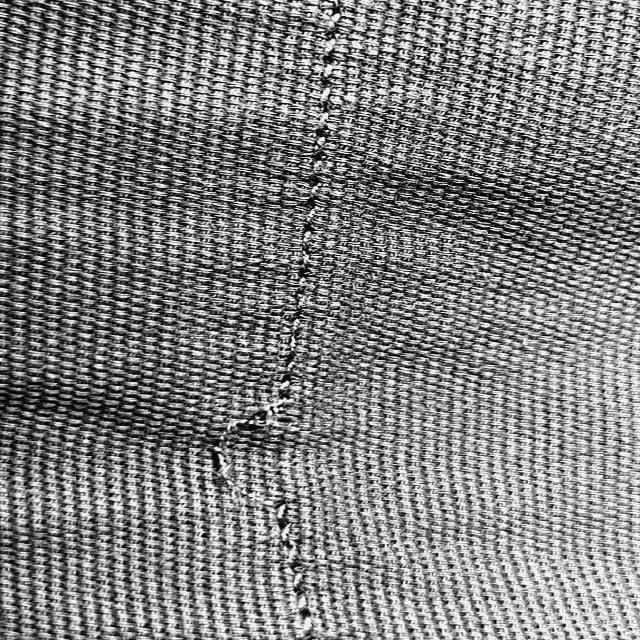Sewing_error: (207, 393, 316, 511)
